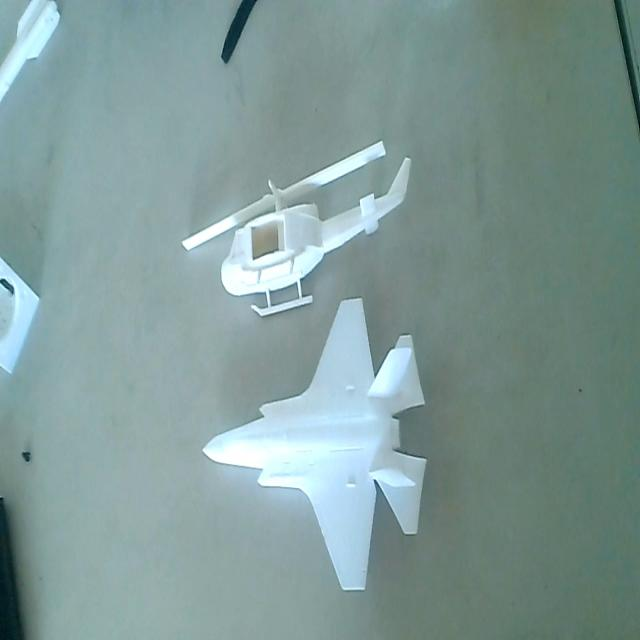Helicopter: (181, 144, 414, 322)
Jet: (203, 297, 427, 607)
Rocket: (0, 0, 75, 106)
